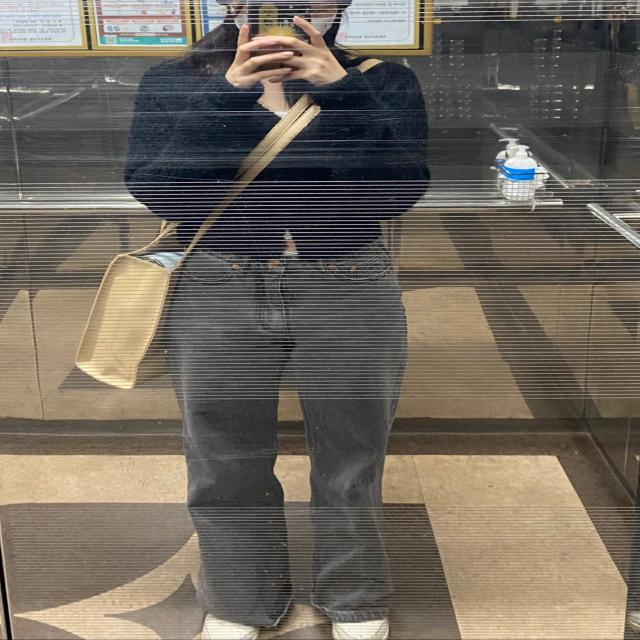cardigan: (122, 49, 435, 235)
denimpants: (171, 247, 406, 628)
